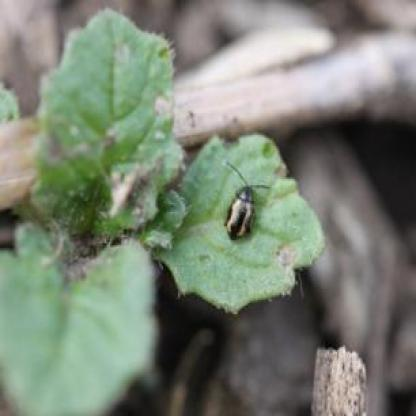beetle: (220, 159, 267, 238)
